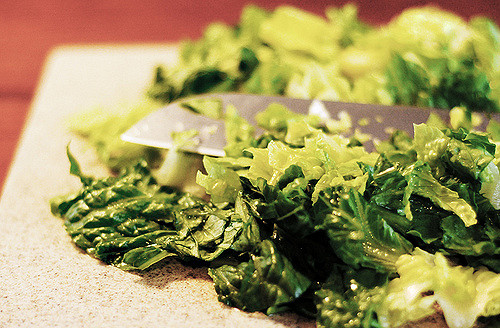chopped lettuce: (61, 121, 500, 322)
